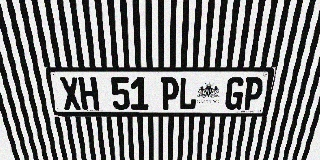1: (129, 77, 148, 110)
5: (111, 77, 131, 110)
G: (224, 77, 246, 110)
H: (78, 77, 100, 110)
L: (179, 77, 198, 110)
P: (242, 77, 265, 110), (161, 77, 179, 110)
X: (59, 77, 82, 110)
